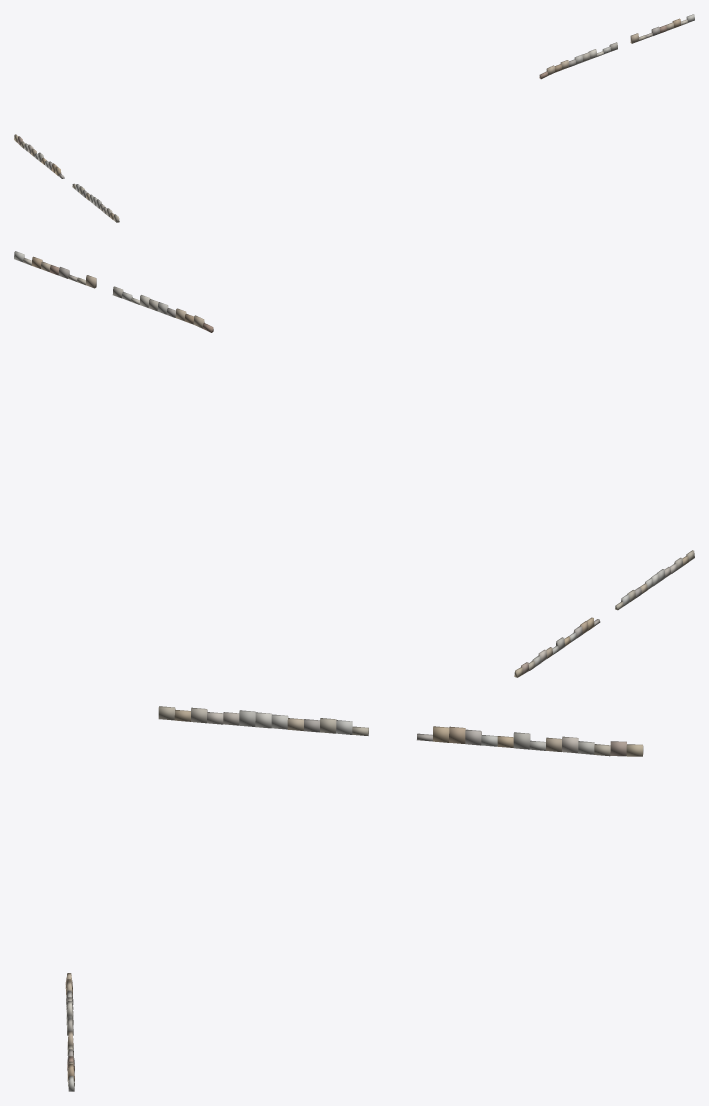
Rendered from farm_-12_6_collision.glb.
The picture shows the model from 3 angles, top to bottom: view 1: azimuth 30°, elevation 25°; view 2: azimuth 150°, elevation 25°; view 3: azimuth 270°, elevation 25°; orthographic projection. The views are drawn at different scales.
Visible parts, largest first — view 1: geometry_0; view 2: geometry_0; view 3: geometry_0.
Part boxes in pixels (x1,y1,x2,y2): geometry_0: (14, 14, 694, 222); geometry_0: (14, 251, 694, 677); geometry_0: (65, 706, 643, 1091).
Bounding box in the file's own units: 125 × 21.31 × 56.34.
